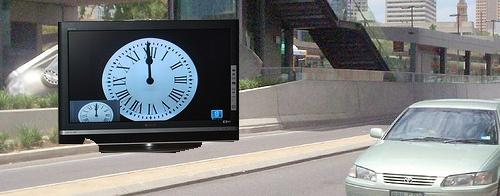tampered: (59, 20, 239, 153)
